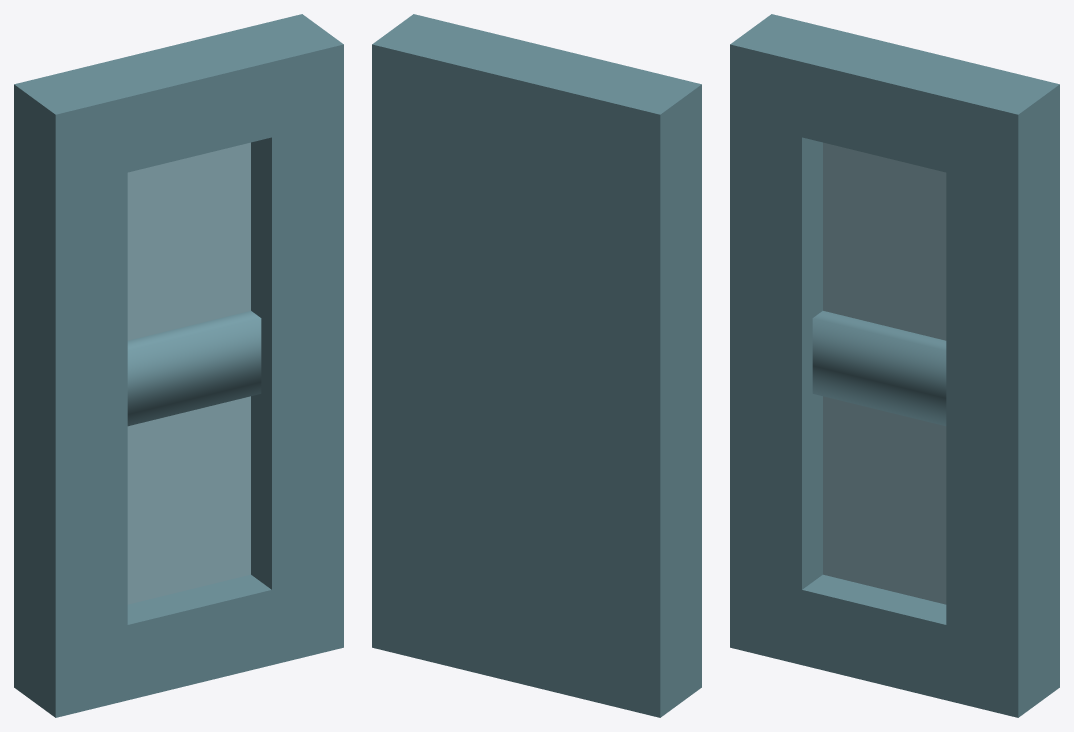
The model's file is cryptDoor.fbx.
3 views of the same model, side by side, from view 1: azimuth 30°, elevation 25°; view 2: azimuth 150°, elevation 25°; view 3: azimuth 330°, elevation 25° (orthographic).
Parts seen in each view (by area): view 1: cryptDoor; view 2: cryptDoor; view 3: cryptDoor.
Boxes of the visible parts, box(x1,y1,x2,y2) form: cryptDoor: box(14, 14, 343, 717); cryptDoor: box(372, 14, 701, 717); cryptDoor: box(730, 14, 1059, 717).
Size of the model in its own units: 4 by 8 by 1.
